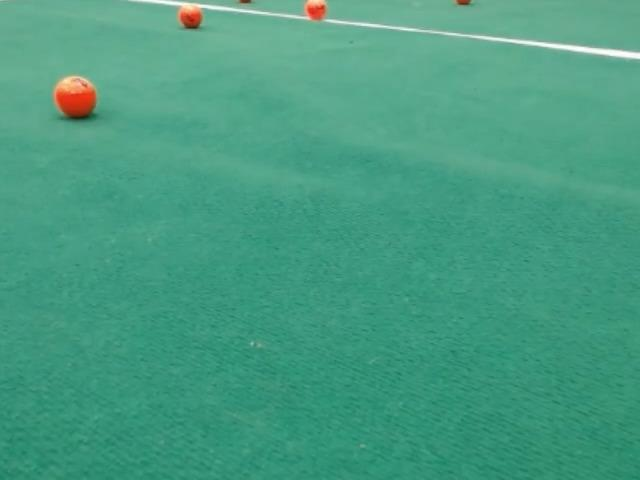Ball: (53, 75, 97, 118), (178, 4, 202, 28), (304, 0, 326, 21)
